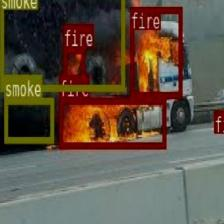fire: (59, 97, 165, 148), (130, 6, 182, 97), (62, 46, 84, 83), (214, 109, 224, 123)
smoke: (0, 0, 124, 90), (4, 98, 53, 142)
